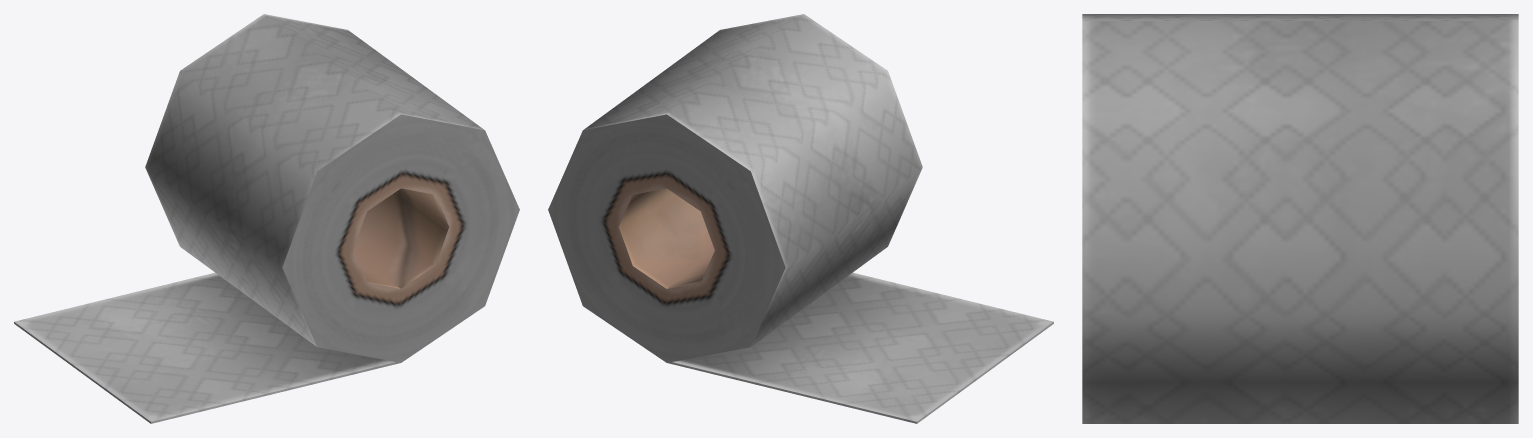
File: ITEM_toiletPaper_C.fbx
3 renders of one model, left to right at view 1: azimuth 30°, elevation 25°; view 2: azimuth 150°, elevation 25°; view 3: azimuth 270°, elevation 25°, orthographic. The views are drawn at different scales.
Visible parts, largest first — view 1: ITEM_toiletPaper_C; view 2: ITEM_toiletPaper_C; view 3: ITEM_toiletPaper_C.
Boxes of the visible parts, <box> form: ITEM_toiletPaper_C: <box>14,14,519,423</box>; ITEM_toiletPaper_C: <box>548,14,1053,423</box>; ITEM_toiletPaper_C: <box>1082,14,1518,423</box>.
Size of the model in its own units: 18.63 by 12 by 12.
